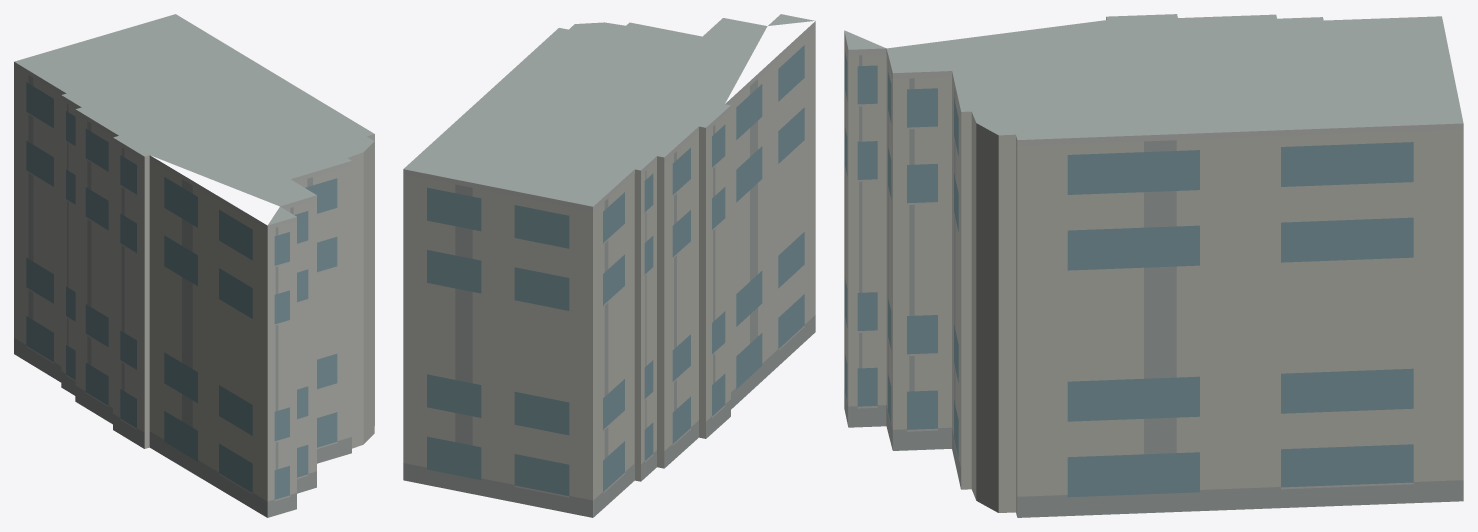
The model's file is survey-upis-33018000.glb.
3 views of the same model, side by side, from view 1: azimuth 30°, elevation 25°; view 2: azimuth 150°, elevation 25°; view 3: azimuth 270°, elevation 25° (orthographic). The views are drawn at different scales.
Parts seen in each view (by area): view 1: survey-upis-33018000.tmp; view 2: survey-upis-33018000.tmp; view 3: survey-upis-33018000.tmp.
Part boxes in pixels (box(x1,y1,x2,y2)): survey-upis-33018000.tmp: box(14, 14, 374, 517); survey-upis-33018000.tmp: box(403, 14, 815, 517); survey-upis-33018000.tmp: box(844, 14, 1463, 517).
Bounding box in the file's own units: 10.93 × 15.25 × 22.67.
